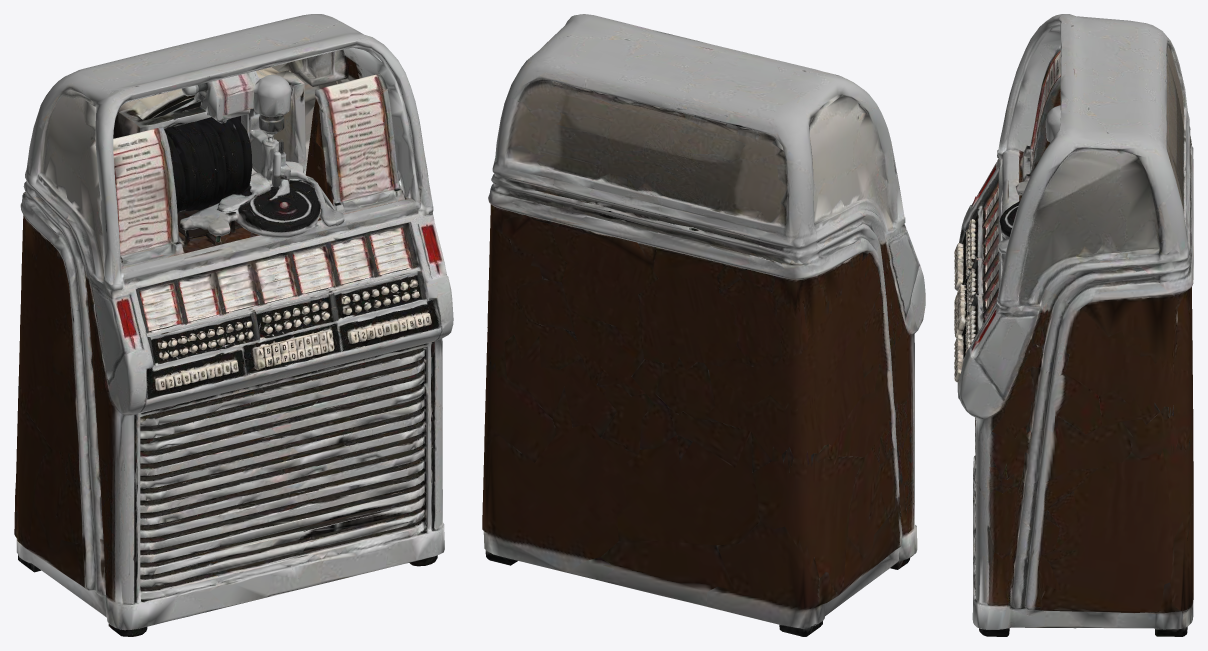
The model's file is jukebox.glb.
3 views of the same model, side by side, from view 1: azimuth 30°, elevation 25°; view 2: azimuth 150°, elevation 25°; view 3: azimuth 270°, elevation 25° (orthographic). The views are drawn at different scales.
Size of the model in its own units: 1.36 by 1.9 by 0.8433.
Materials: 1 (1 with a texture image).
